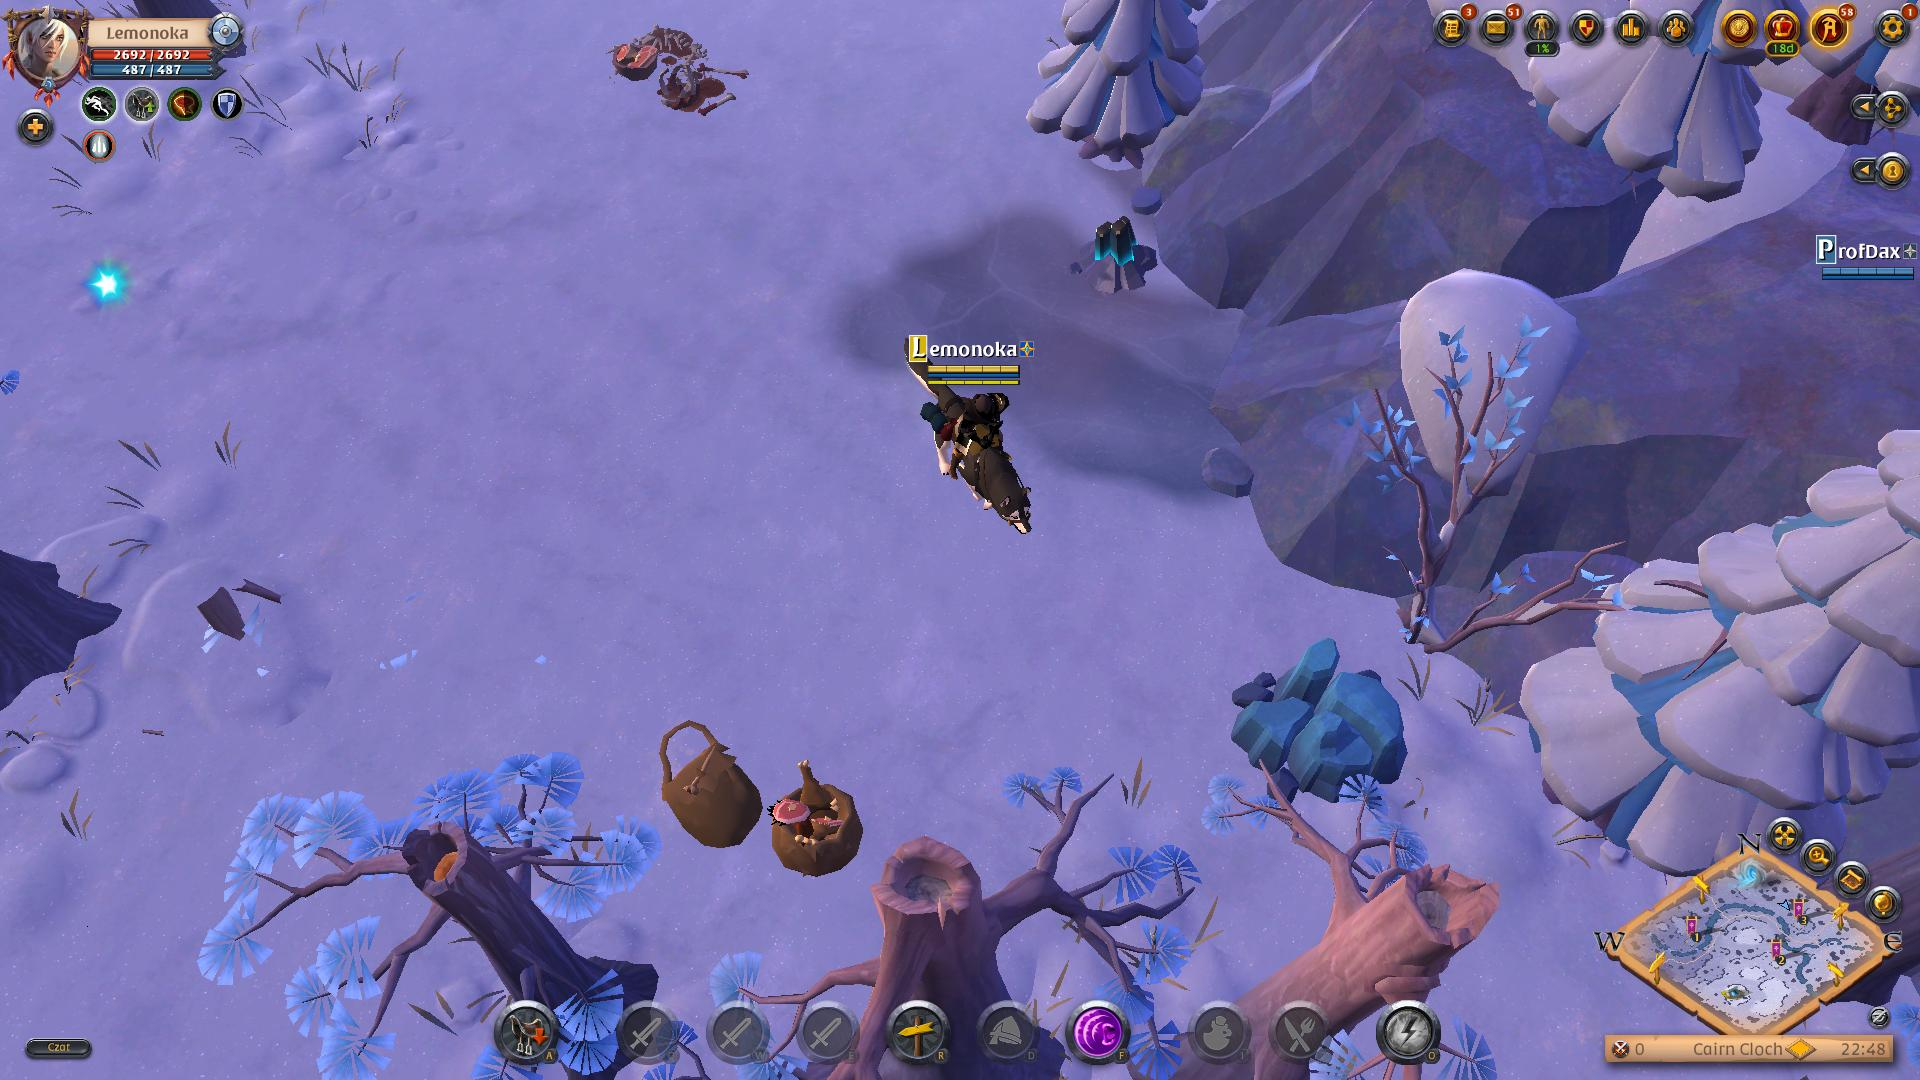ore tier 4: (1077, 212, 1163, 299)
rock tier 4: (1230, 636, 1410, 790)
